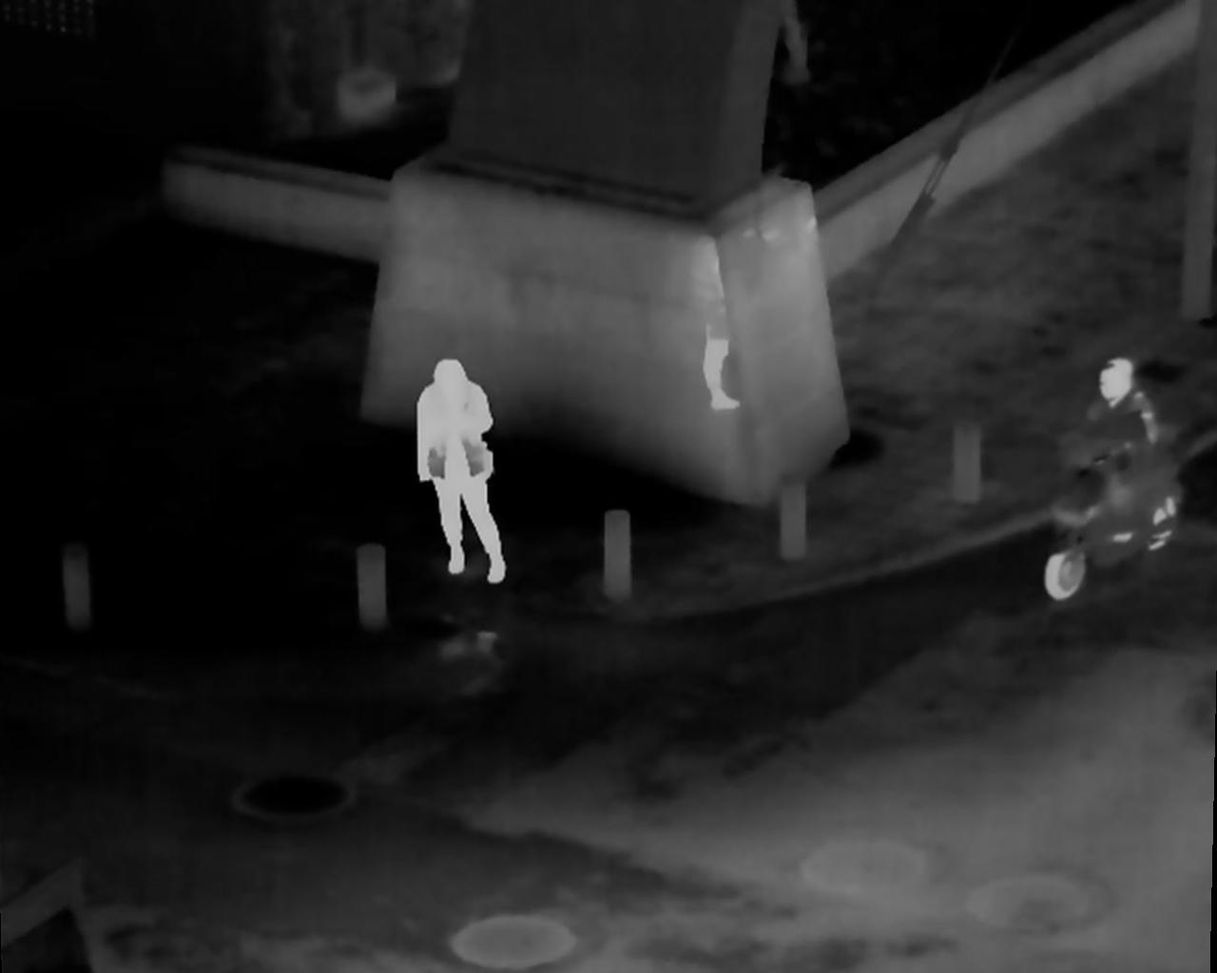person: (1055, 348, 1181, 598), (409, 363, 514, 591)
